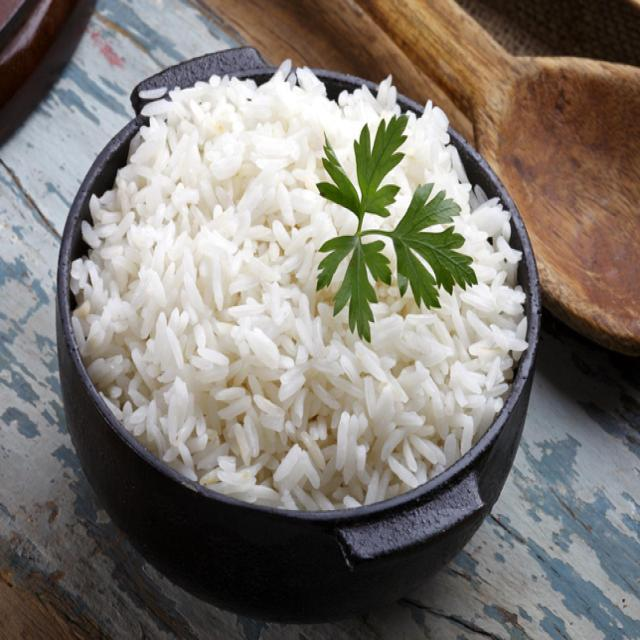arroz: (49, 56, 540, 562)
